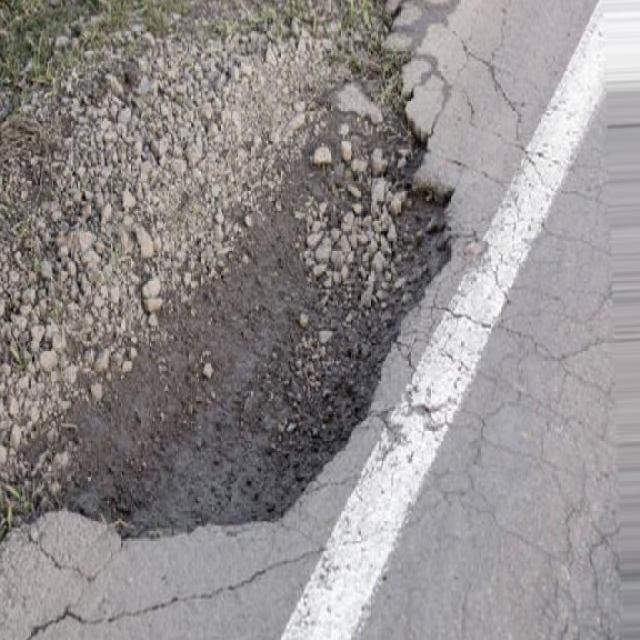Pinggir: (37, 21, 468, 541)
